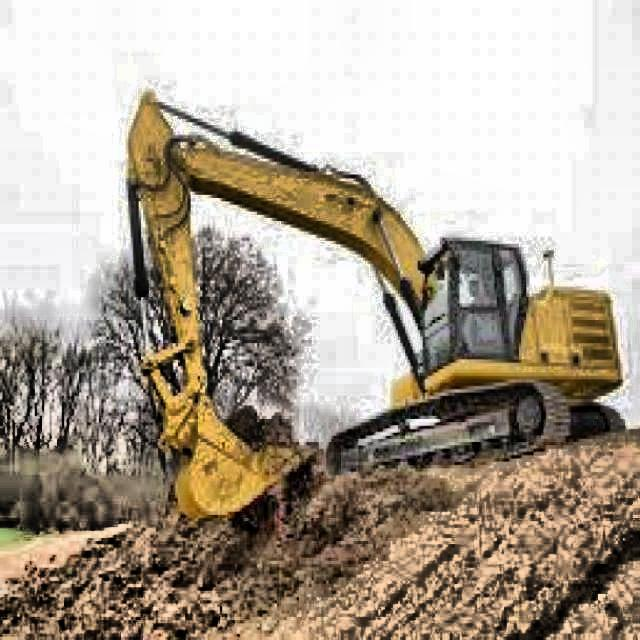bull_dozer/loader/grader: (125, 89, 628, 526)
person: (467, 278, 497, 319)
